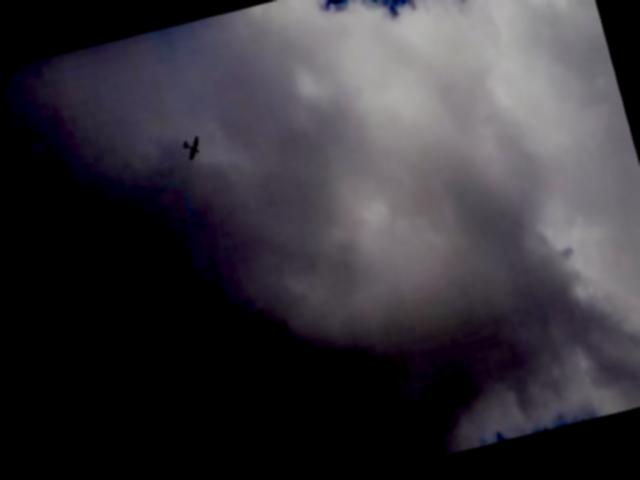iha: (177, 133, 209, 164)
